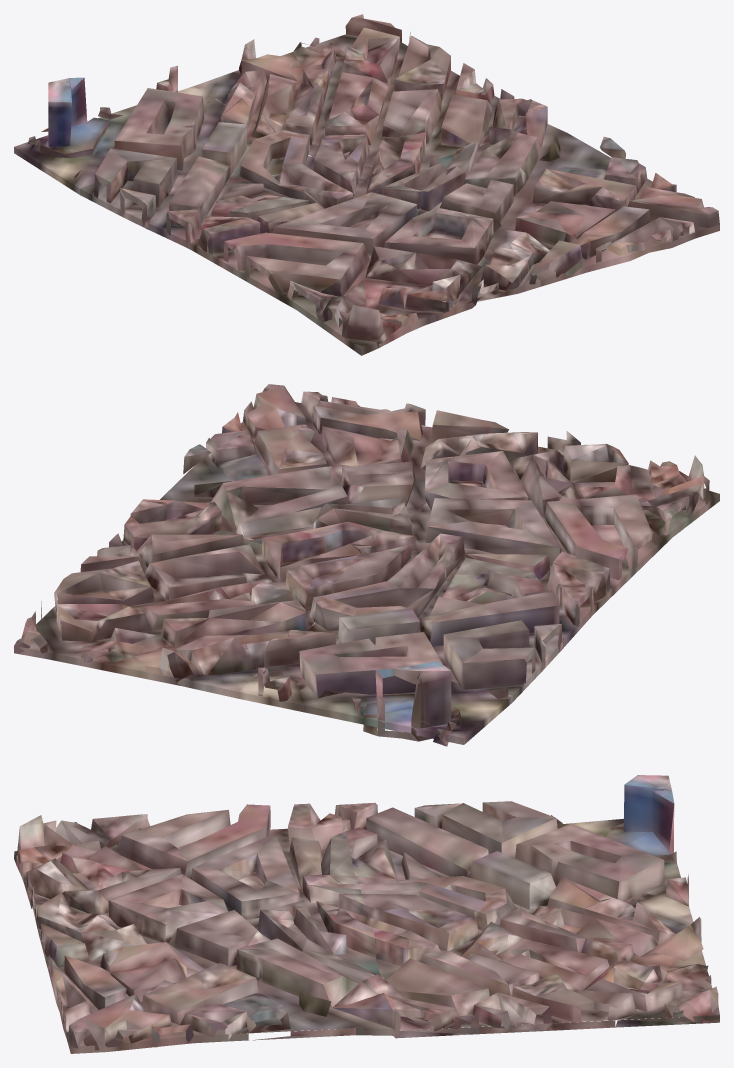
3 views of the same model, one above another, from view 1: azimuth 30°, elevation 25°; view 2: azimuth 150°, elevation 25°; view 3: azimuth 270°, elevation 25° (orthographic). The views are drawn at different scales.
Parts seen in each view (by area): view 1: Mesh_0; view 2: Mesh_0; view 3: Mesh_0.
Boxes of the visible parts, left/top/right/bottom form: Mesh_0: left=14, top=14, right=719, bottom=355; Mesh_0: left=14, top=384, right=719, bottom=746; Mesh_0: left=14, top=775, right=719, bottom=1053.
Bounding box in the file's own units: 532 × 76.45 × 659.
2 materials, 2 textured.
